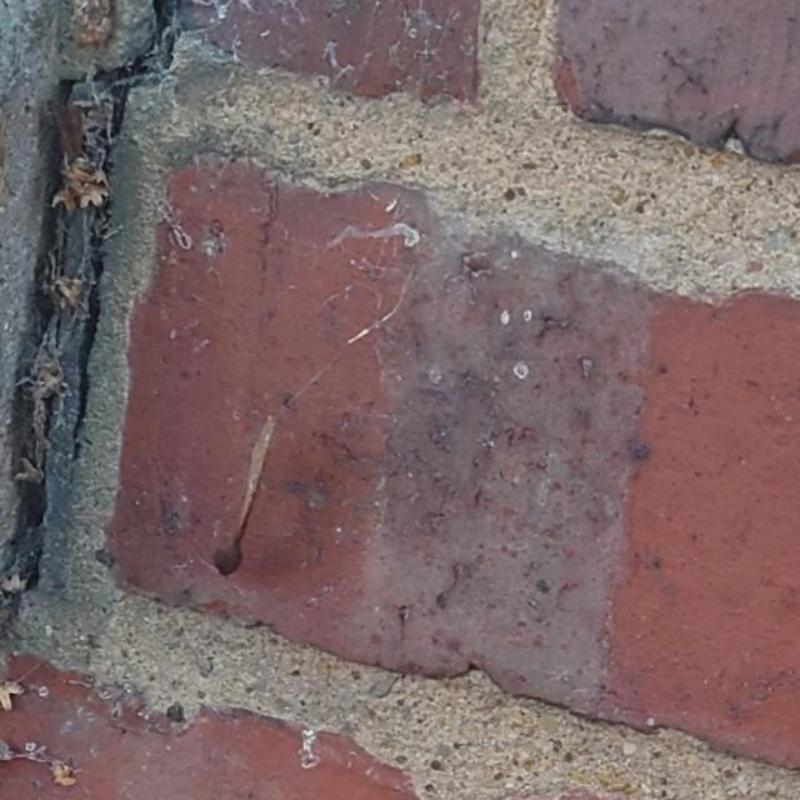pothole: (0, 0, 180, 605)
